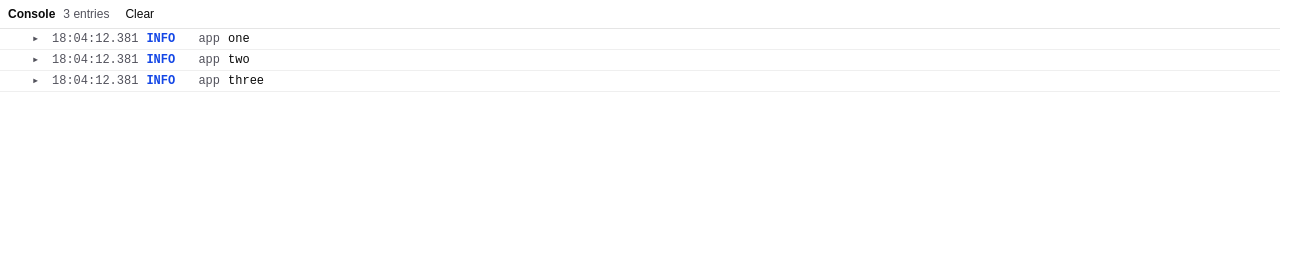
Test: ConsoleEntryList › expanding rows › lets several rows be open at the same time
Click the button "▸ 18:04:12.381 INFO app one" at (95, 39), box [24,29,1280,49]
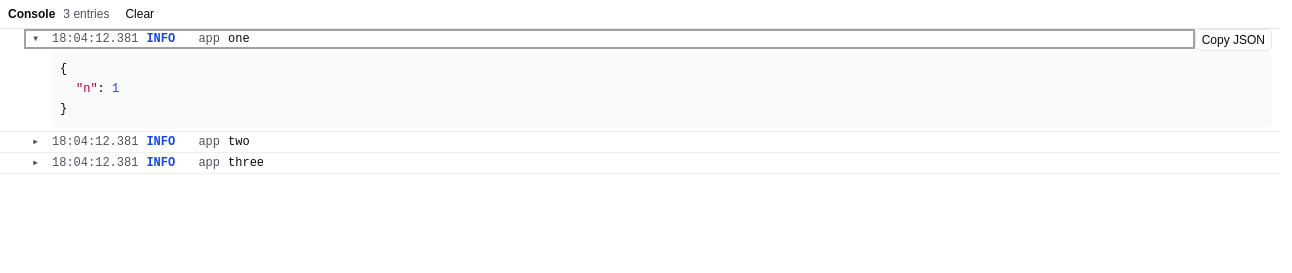
Click the button "▸ 18:04:12.381 INFO app three" at (95, 163), box [24,153,1280,173]
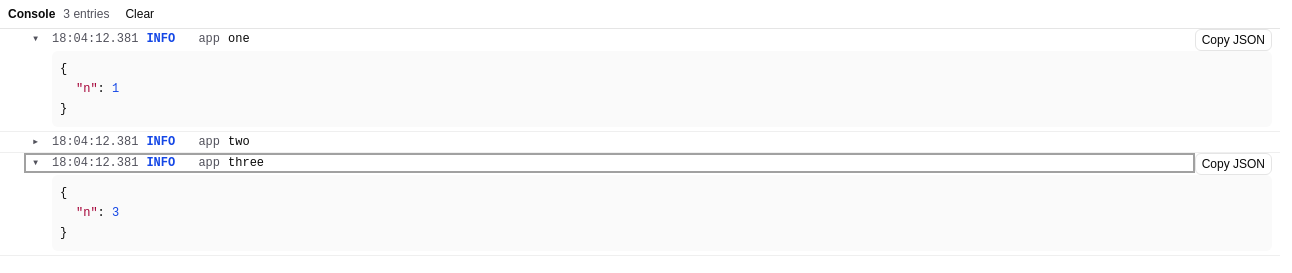
Check: the button "▾ 18:04:12.381 INFO app one" is expanded, box [24,29,1195,49]
Check: the button "▾ 18:04:12.381 INFO app three" is expanded, box [24,153,1195,173]
